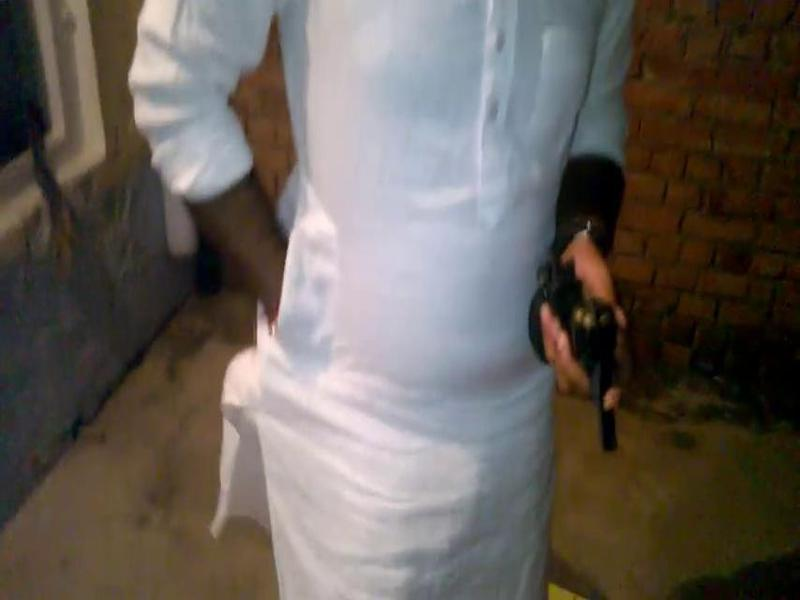Revolver: (507, 217, 659, 494)
